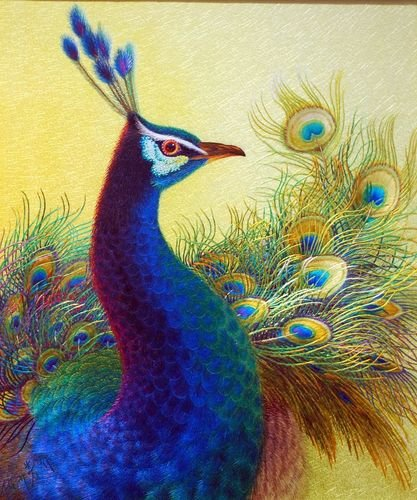peacock: (1, 5, 417, 500)
